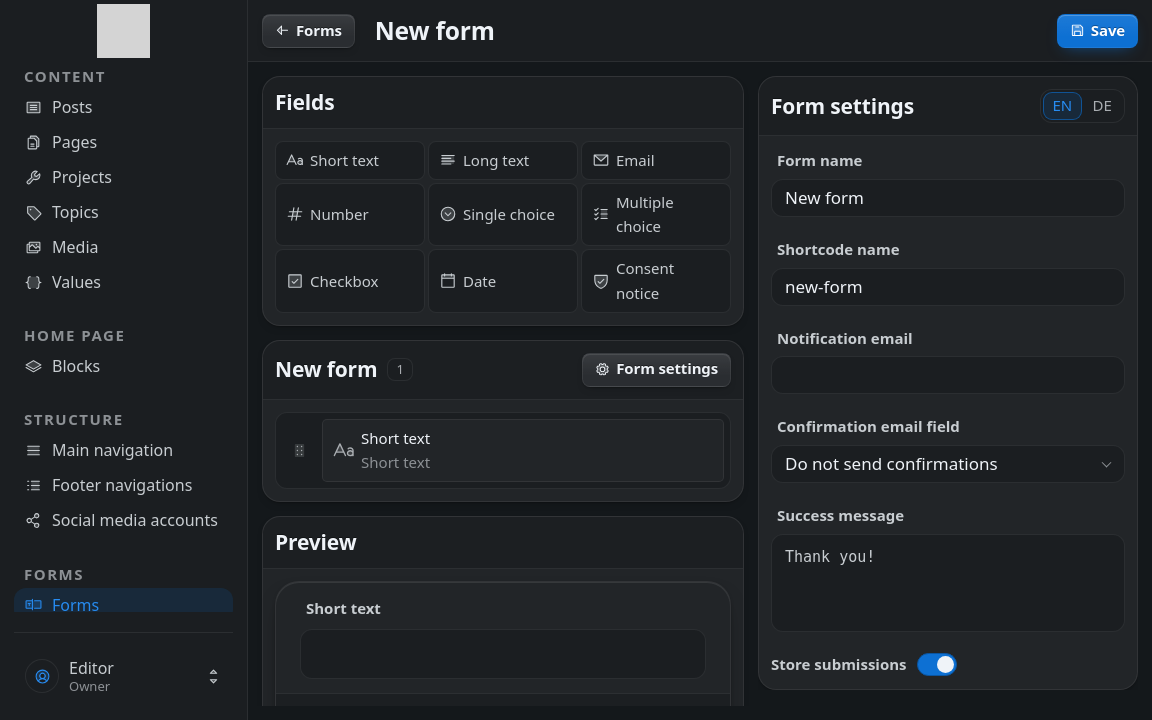
form builder › leads back to the list from the start of the bar, before the form's name
The image size is (1152, 720).
Expected: the field labelled "Form name" is shown, x1=771 y1=179 x2=1125 y2=217
Expected: the heading "New form" is shown, x1=375 y1=15 x2=495 y2=47
What coordinates should you click on to do the following:
click the 1st link "Forms"
I would click on:
 (308, 31)
Its box is x1=262 y1=14 x2=355 y2=48.
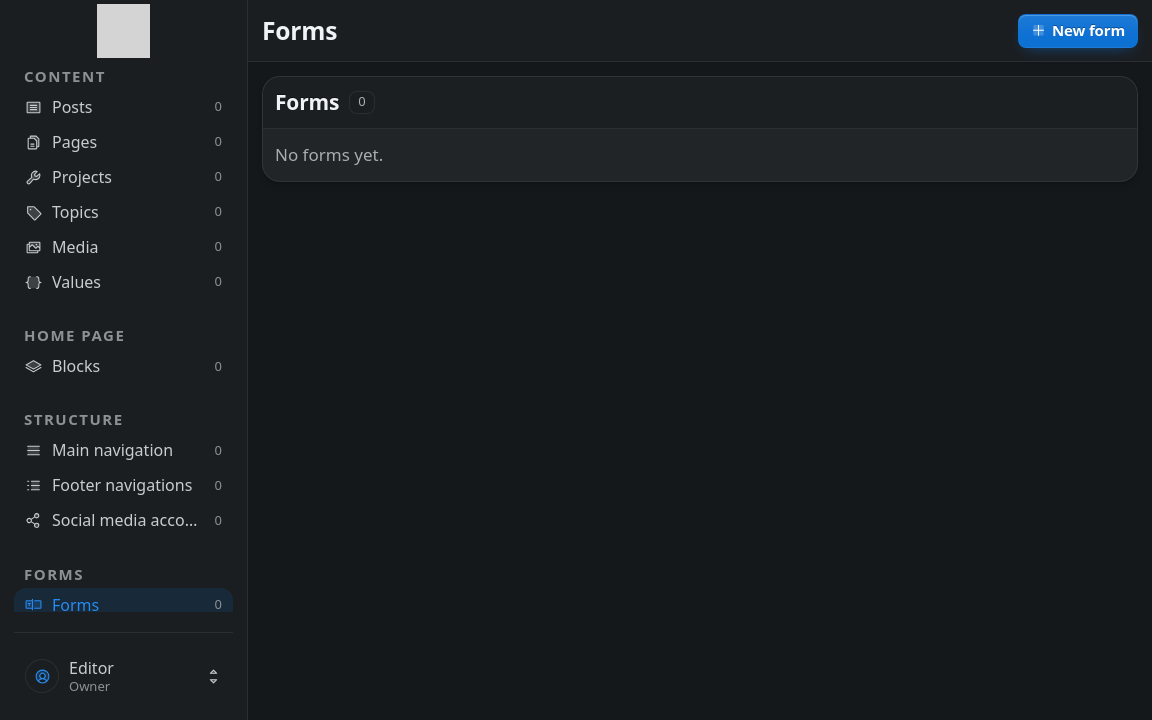
Expected: the text "No forms yet." is shown, x1=275 y1=143 x2=383 y2=166
